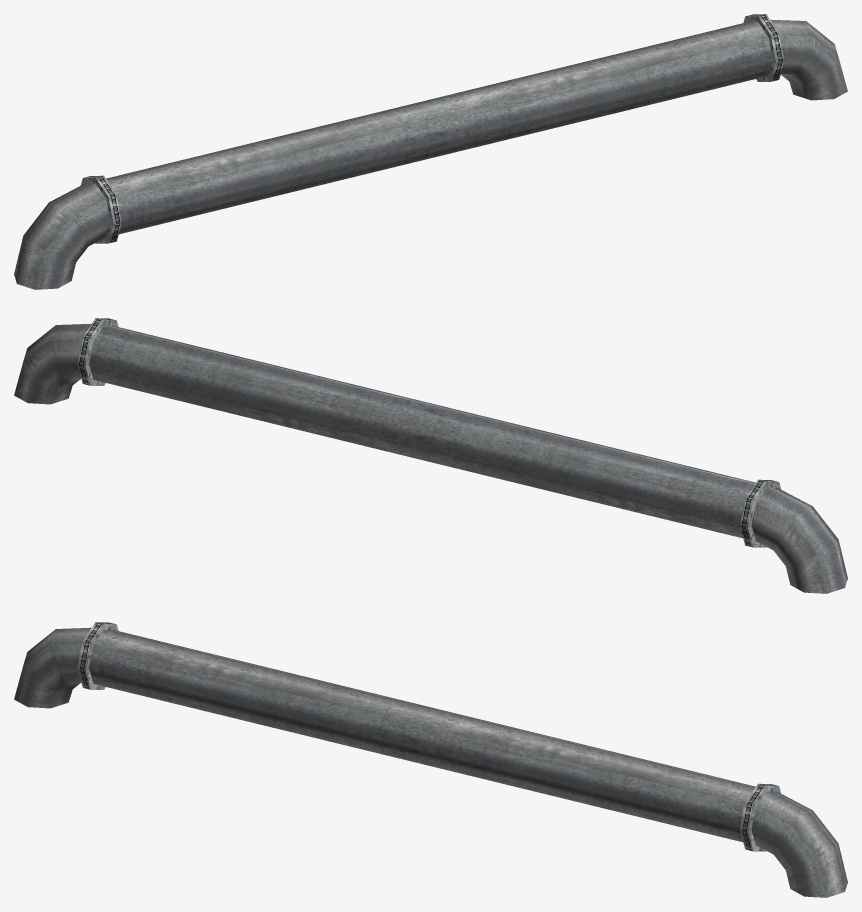
File: curved_ends_grey_8m.fbx
3 renders of one model, top to bottom at view 1: azimuth 30°, elevation 25°; view 2: azimuth 150°, elevation 25°; view 3: azimuth 330°, elevation 25°, orthographic.
Parts seen in each view (by area): view 1: mesh_0; view 2: mesh_0; view 3: mesh_0.
Boxes of the visible parts, left/top/right/bottom form: mesh_0: left=14, top=14, right=847, bottom=289; mesh_0: left=14, top=318, right=847, bottom=593; mesh_0: left=14, top=622, right=847, bottom=897.
Size of the model in its own units: 800 by 80.33 by 60.93.
1 material, 1 textured.
